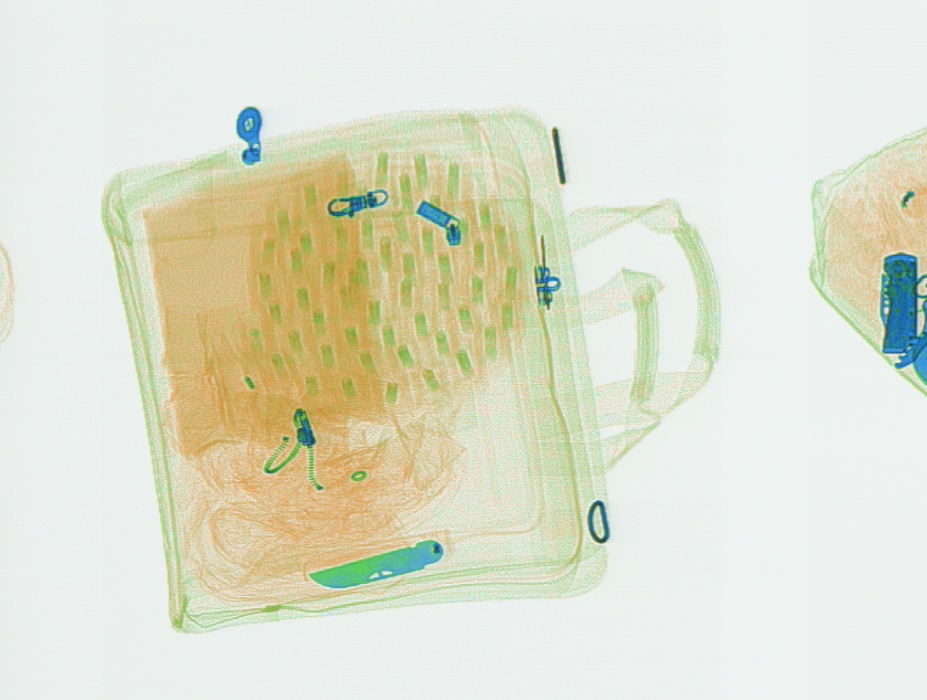firecrackers: (239, 136, 523, 416)
knife: (295, 522, 449, 593), (871, 244, 921, 354)
